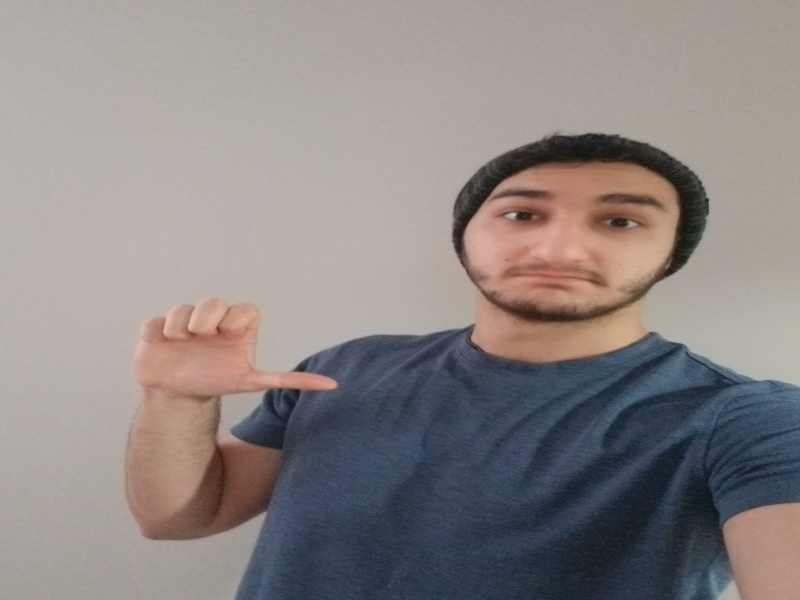thumbup: (121, 291, 351, 406)
